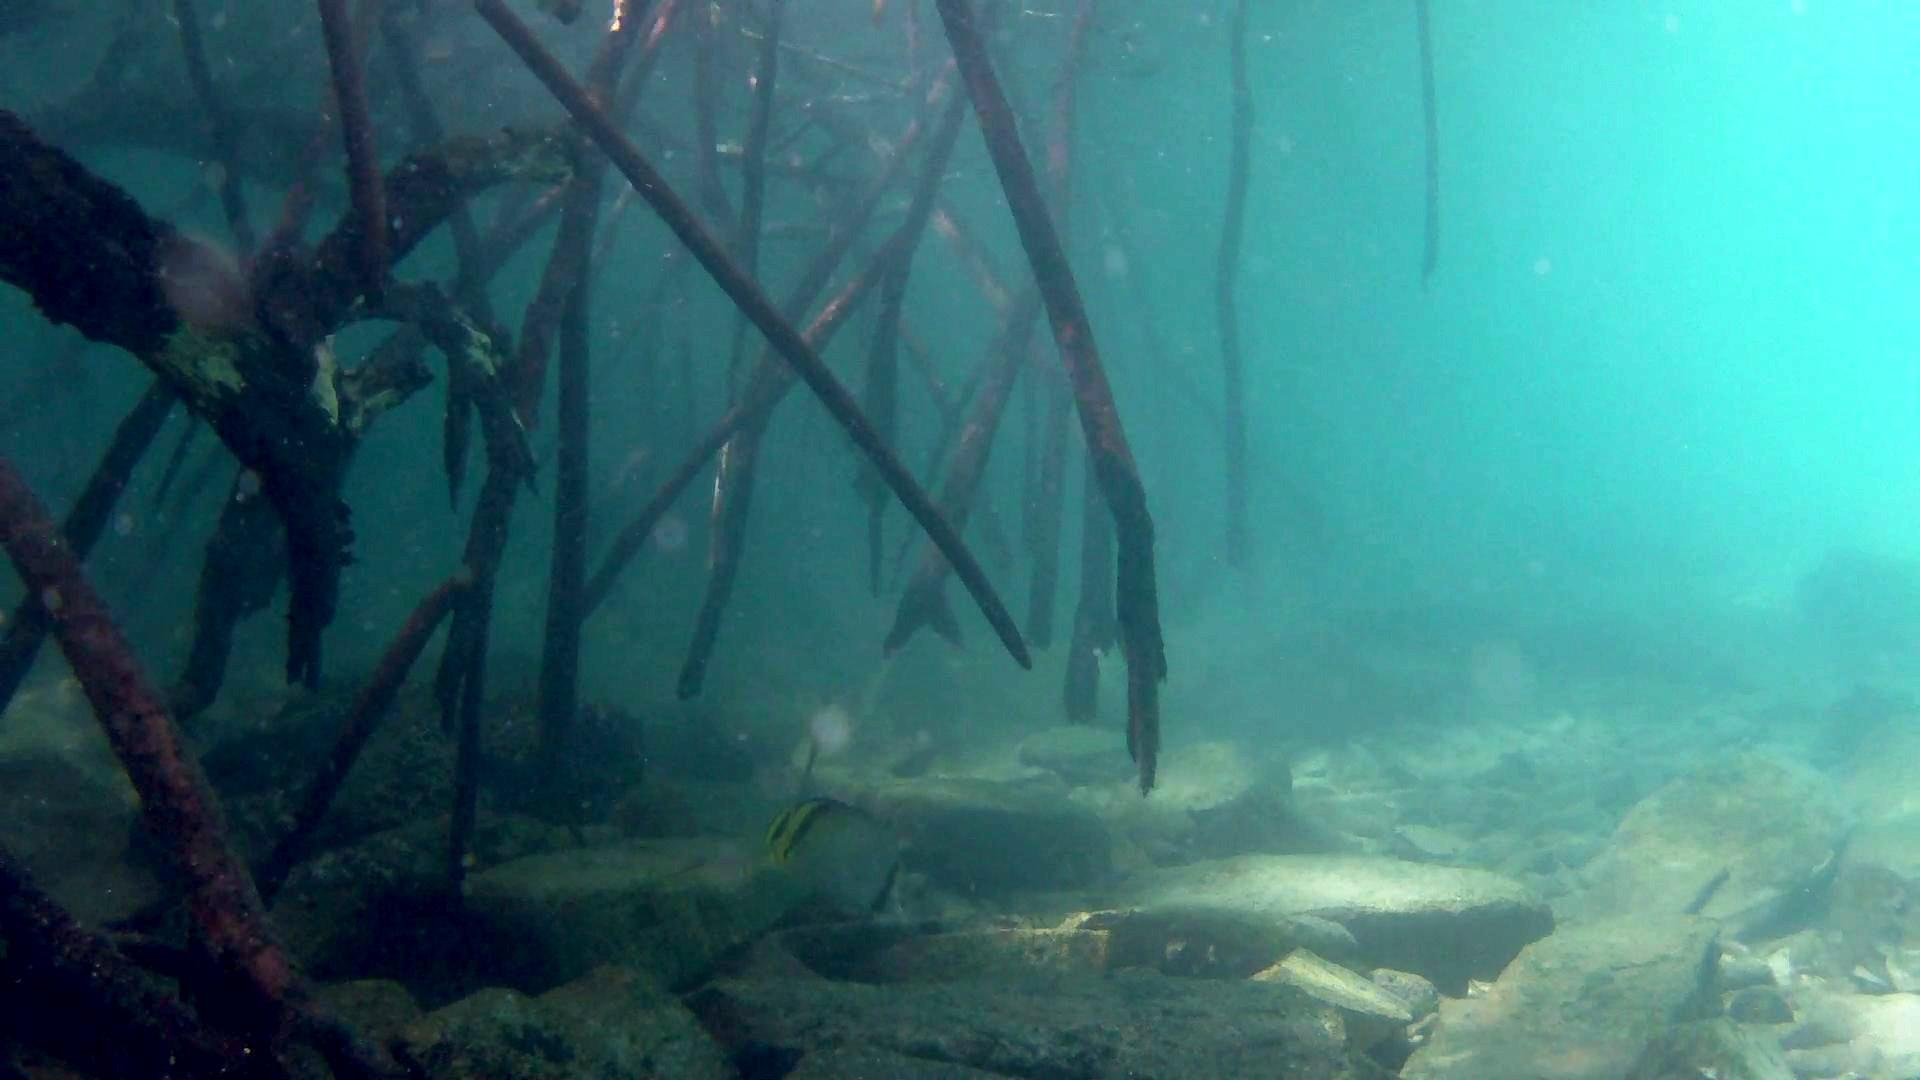chaetodon vagabundus: (761, 794, 913, 930)
